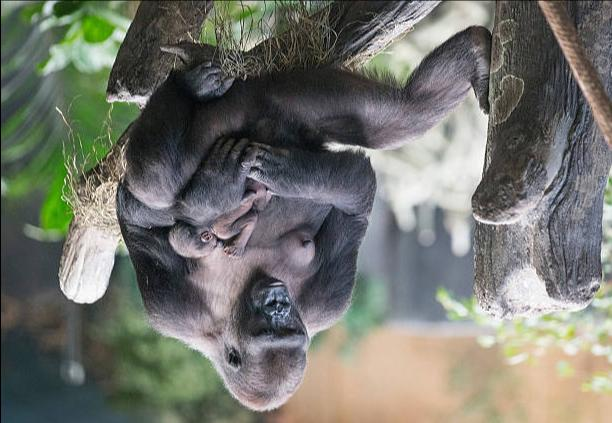gorille_Autres: (88, 23, 472, 416)
